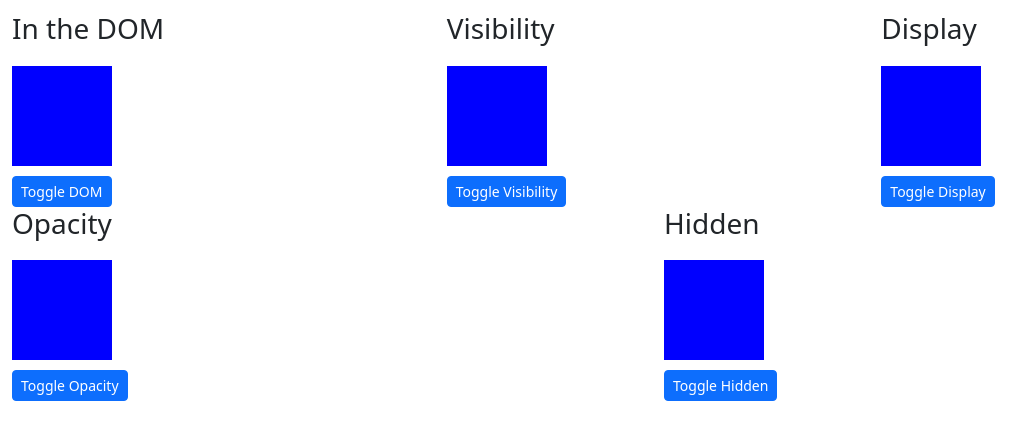
Test: Visibility tests › Toggle Opacity
expect the element with test id "opacity" is shown: met, box top-left (12, 260), bottom-right (112, 360)
Click the button "Toggle Opacity" at (70, 386), box top-left (12, 370), bottom-right (128, 401)
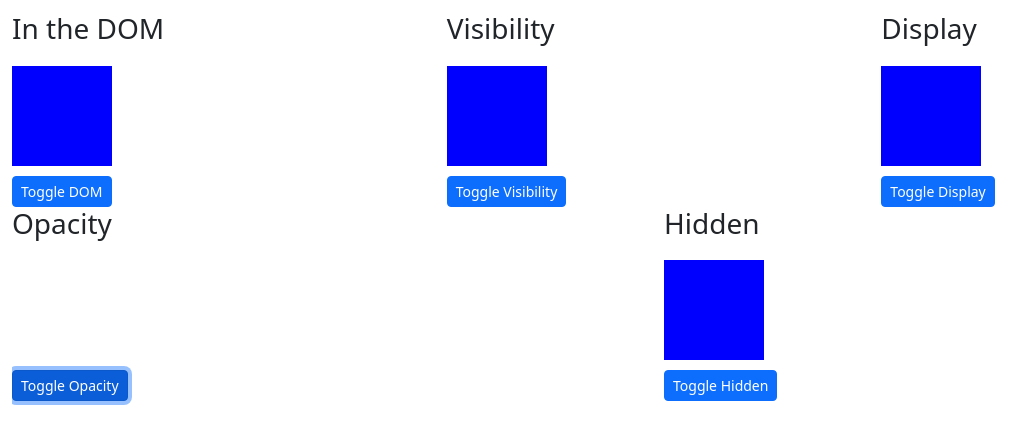
expect the element with test id "opacity" is gone: met
